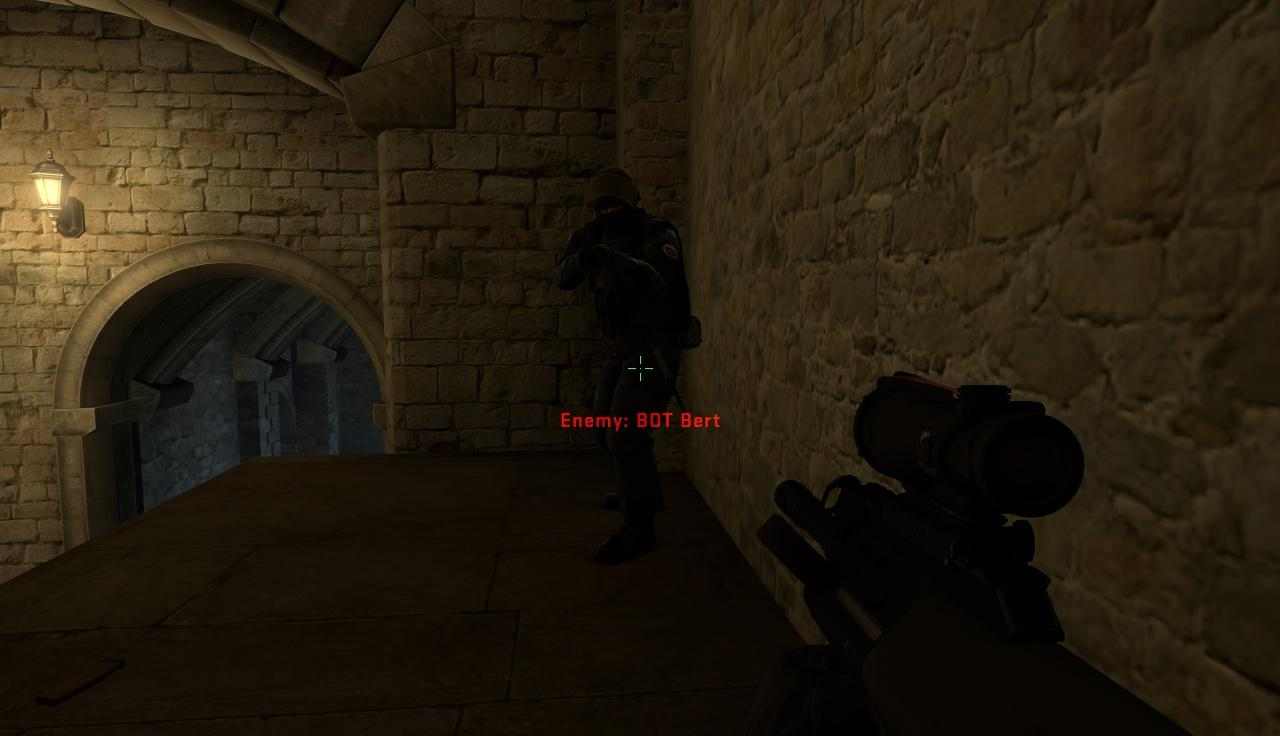ct: (562, 172, 684, 561)
cthead: (588, 170, 643, 226)
rifle: (759, 367, 1182, 733)
